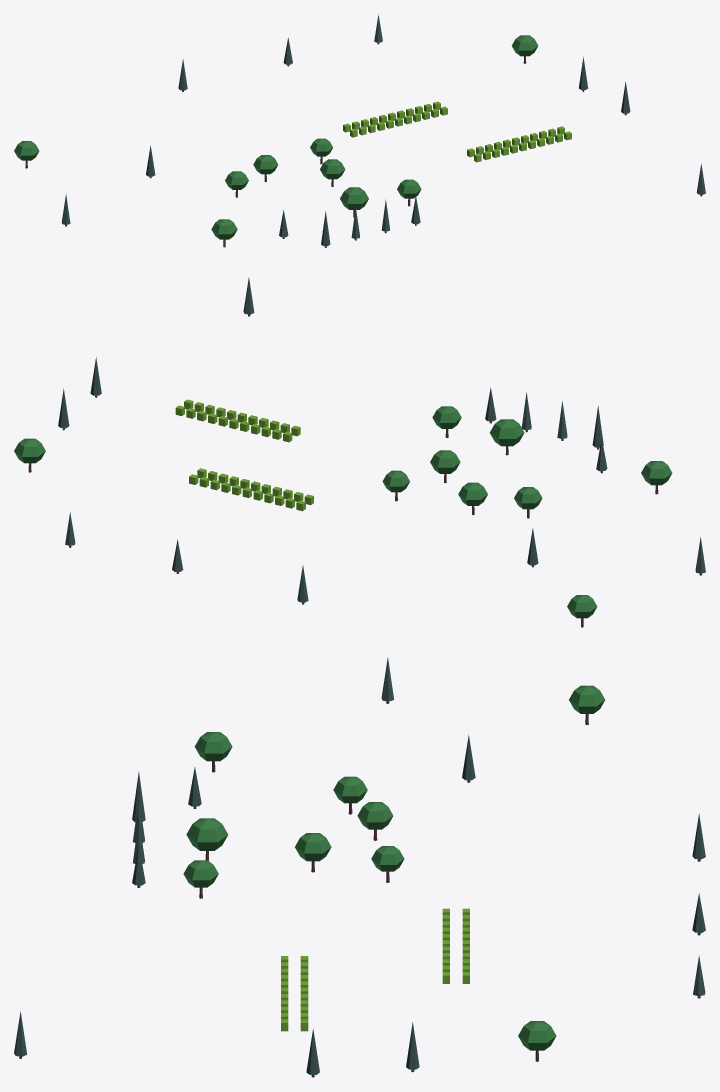
Rendered from trees.glb.
3 renders of one model, top to bottom at view 1: azimuth 30°, elevation 25°; view 2: azimuth 150°, elevation 25°; view 3: azimuth 270°, elevation 25°, orthographic. The views are drawn at different scales.
Parts seen in each view (by area): view 1: trees; view 2: trees; view 3: trees.
Boxes of the visible parts, <box> form: trees: <box>14,14,705,247</box>; trees: <box>14,277,705,627</box>; trees: <box>14,657,705,1077</box>.
Bounding box in the file's own units: 72.03 × 4.74 × 55.58.
